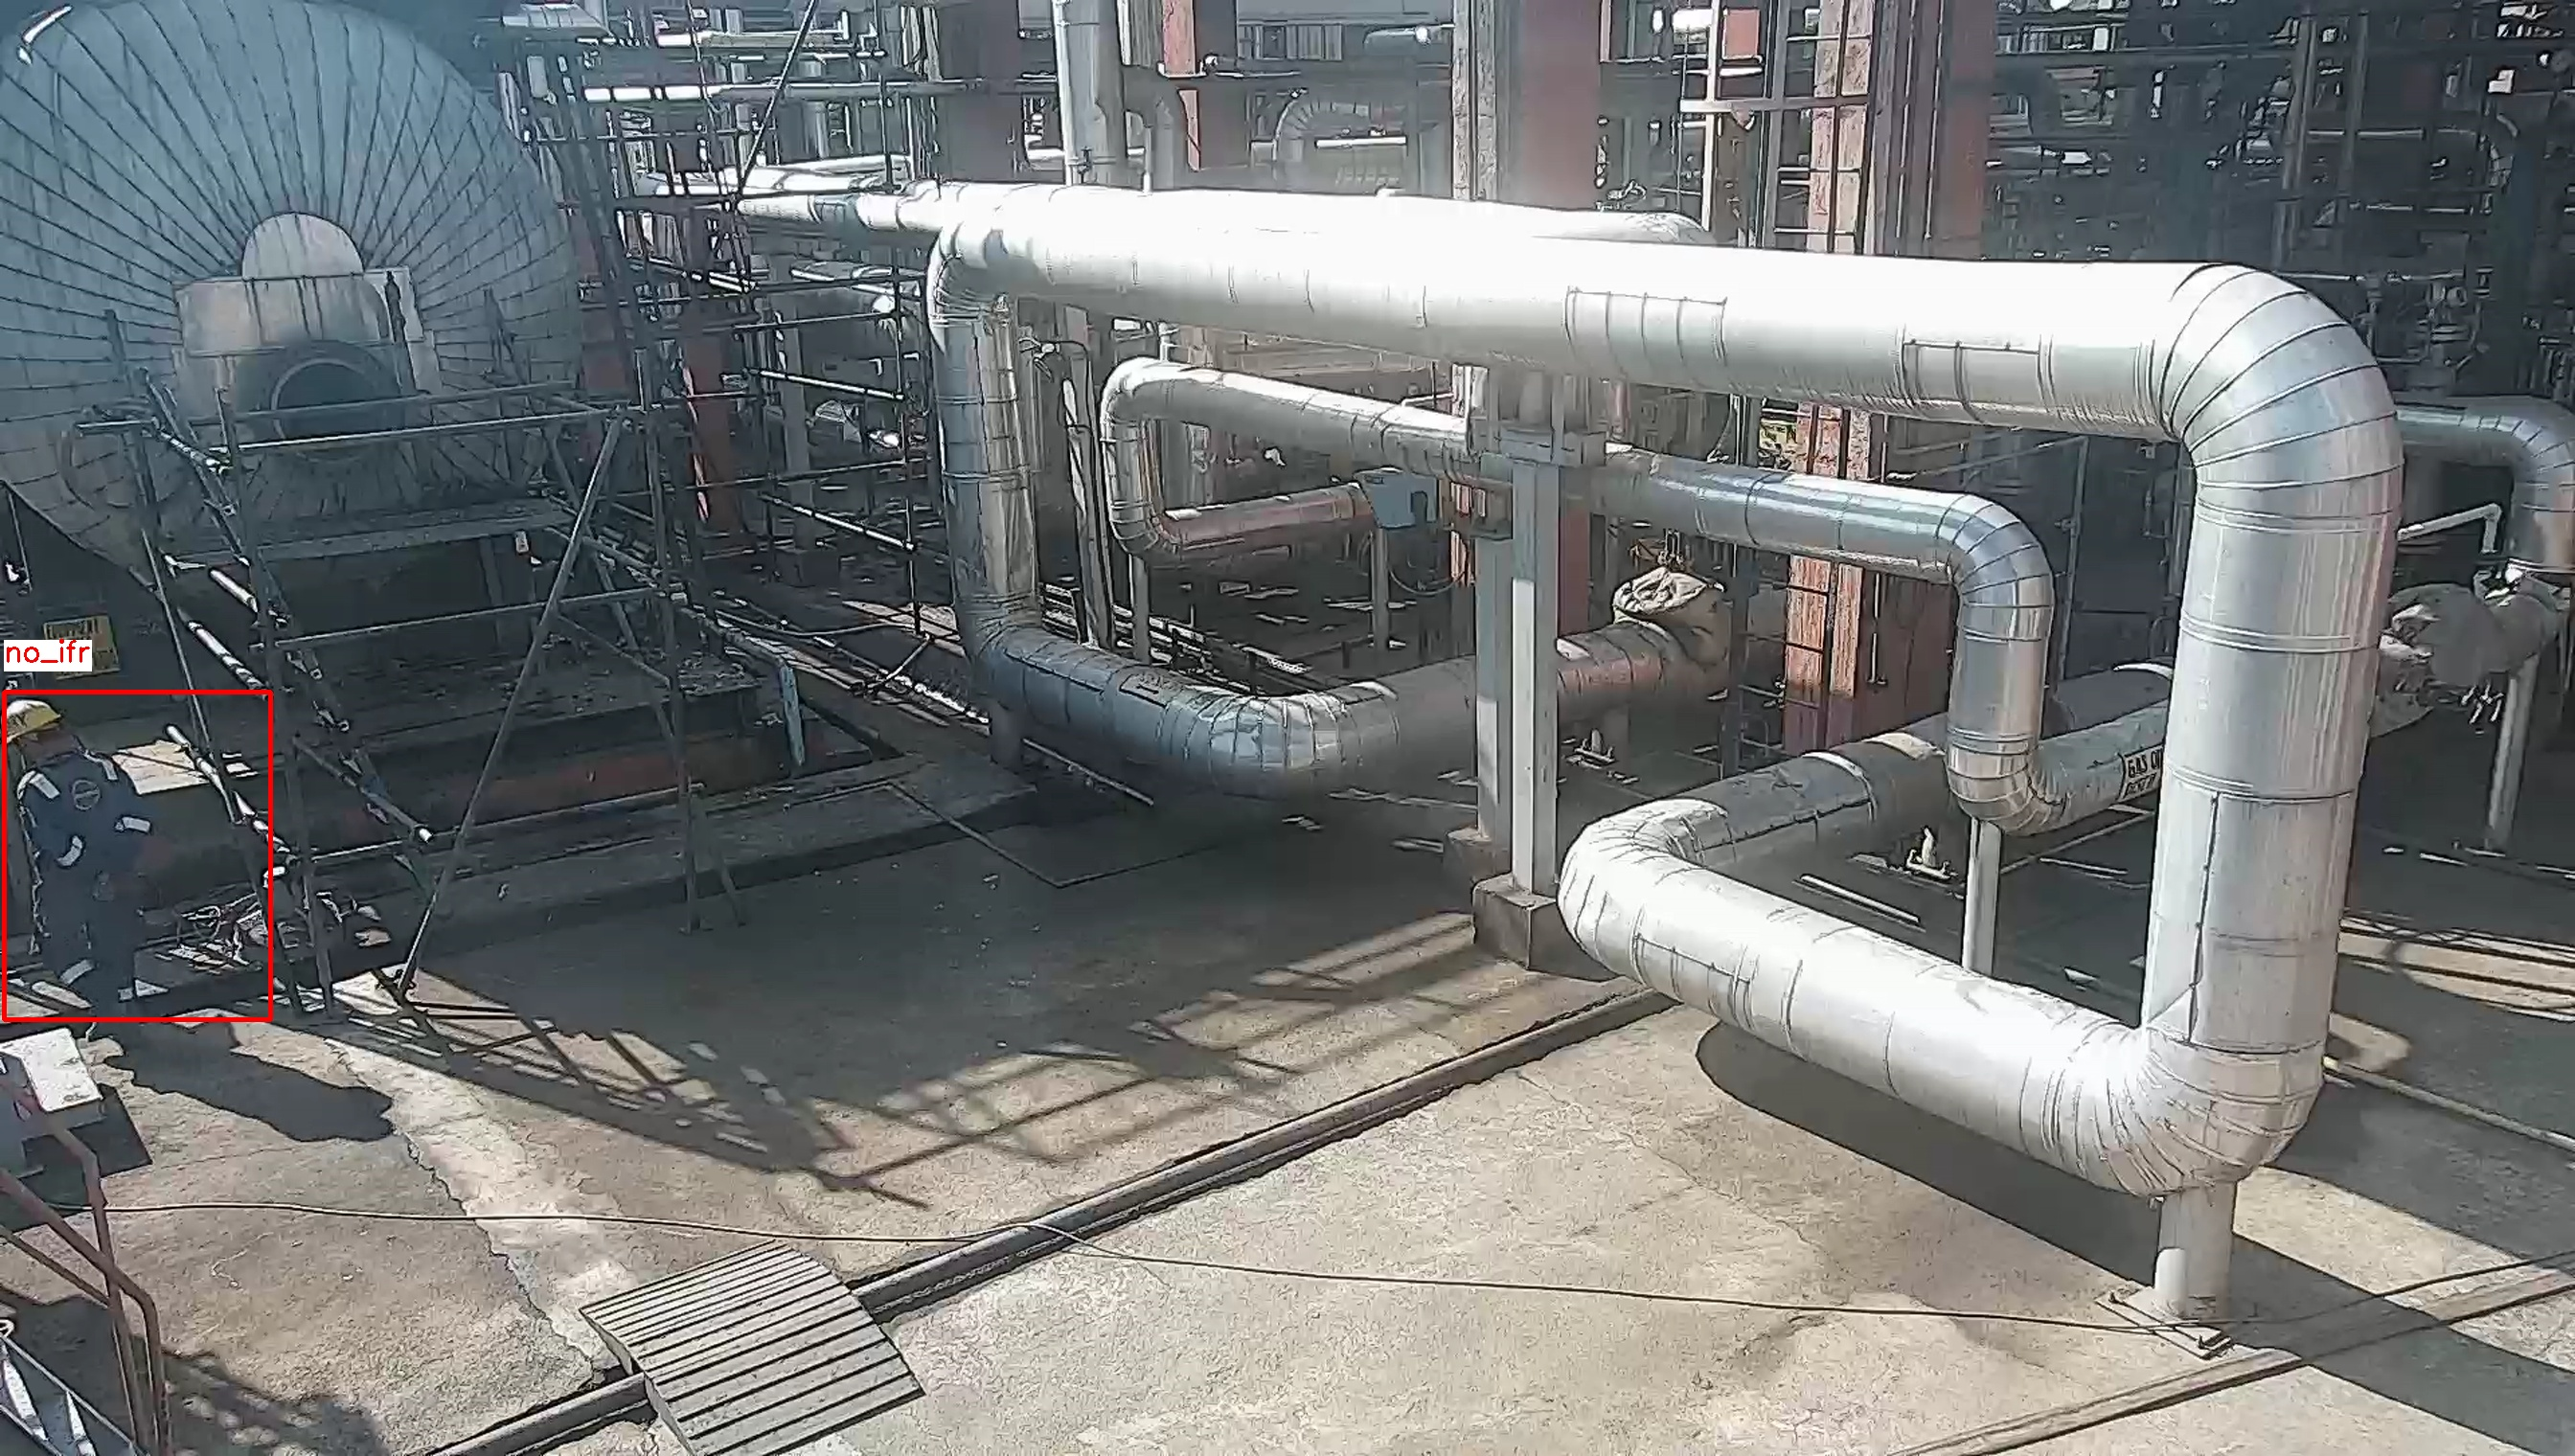Helmets: (2, 699, 64, 739)
IFR_Suit: (16, 759, 154, 992)
